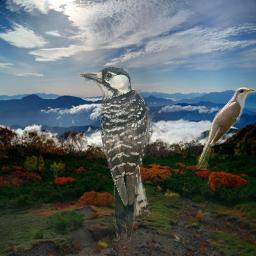Cuckoo: (195, 87, 255, 170)
Woodpecker: (78, 66, 166, 244)
